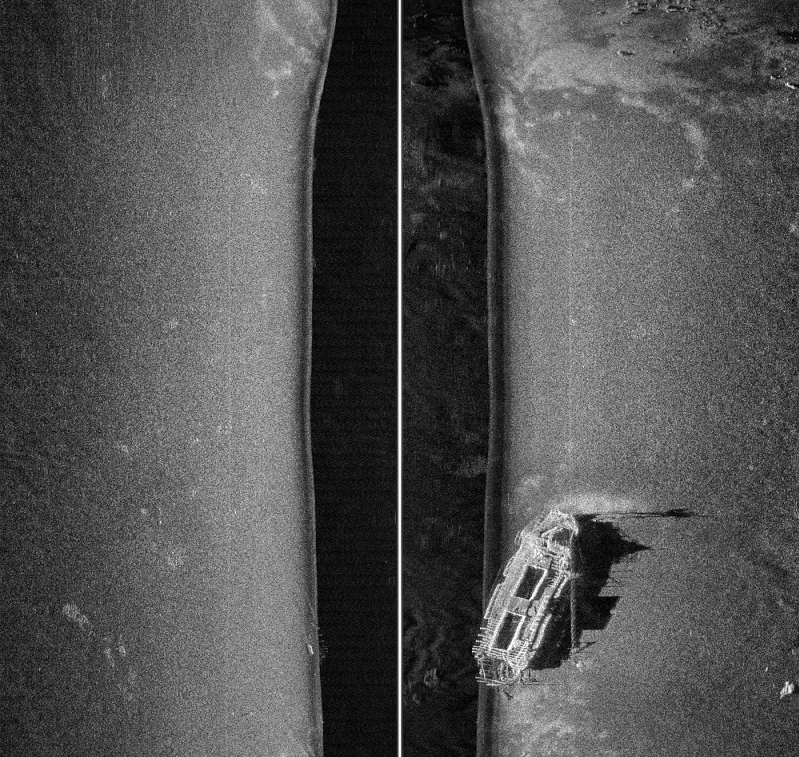ship: (469, 505, 582, 687)
